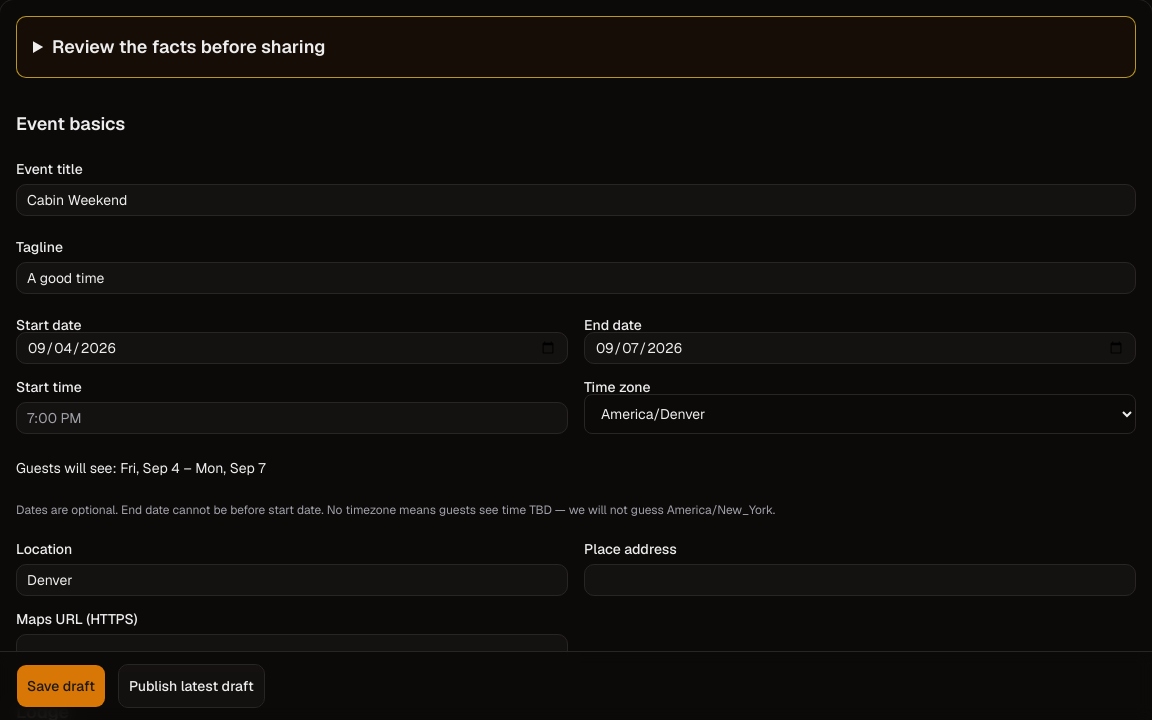
HostEditor draft review safety › does not preview an inverted end-before-start When line
This screenshot has width=1152, height=720.
Type "2026-09-01" into the date field labelled "End date" at {"x": 860, "y": 348}, box [584,332,1136,364]
(page scrolled)
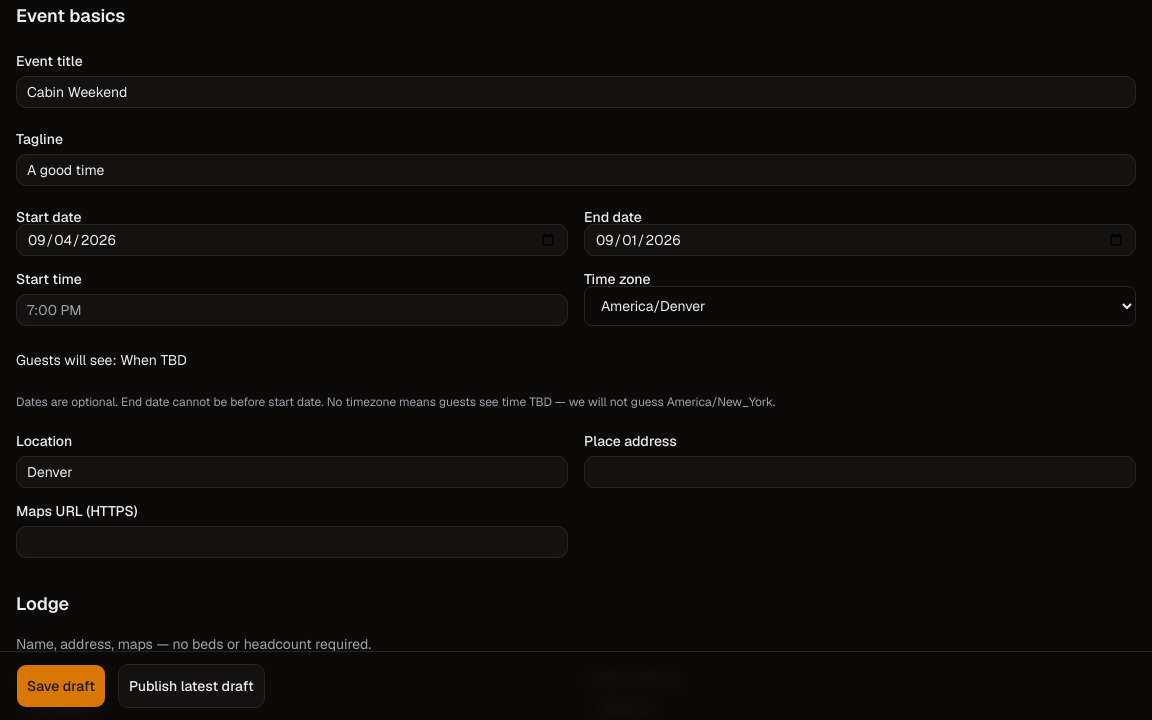
Check: the text "Guests will see: When TBD" is shown, box [16,351,187,369]
Check: the text "Guests will see:" no longer shows "Sep 4 –"
